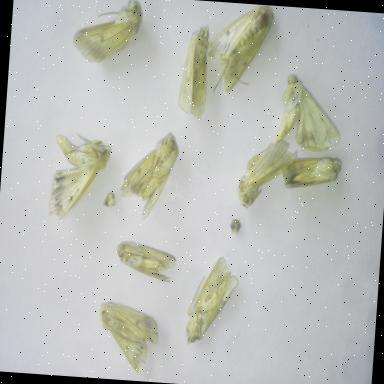abw: (200, 2, 277, 102), (269, 68, 350, 158), (43, 128, 115, 228), (113, 125, 184, 224), (179, 250, 244, 353), (90, 298, 167, 380), (235, 133, 303, 220), (66, 0, 148, 71), (174, 20, 216, 124), (109, 234, 181, 292), (273, 146, 345, 199)
